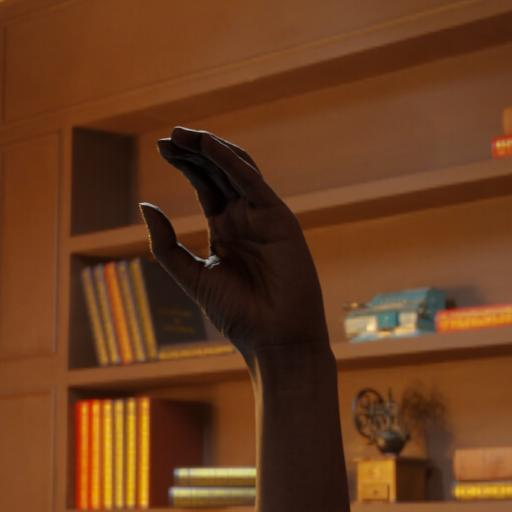C: (128, 107, 356, 479)
